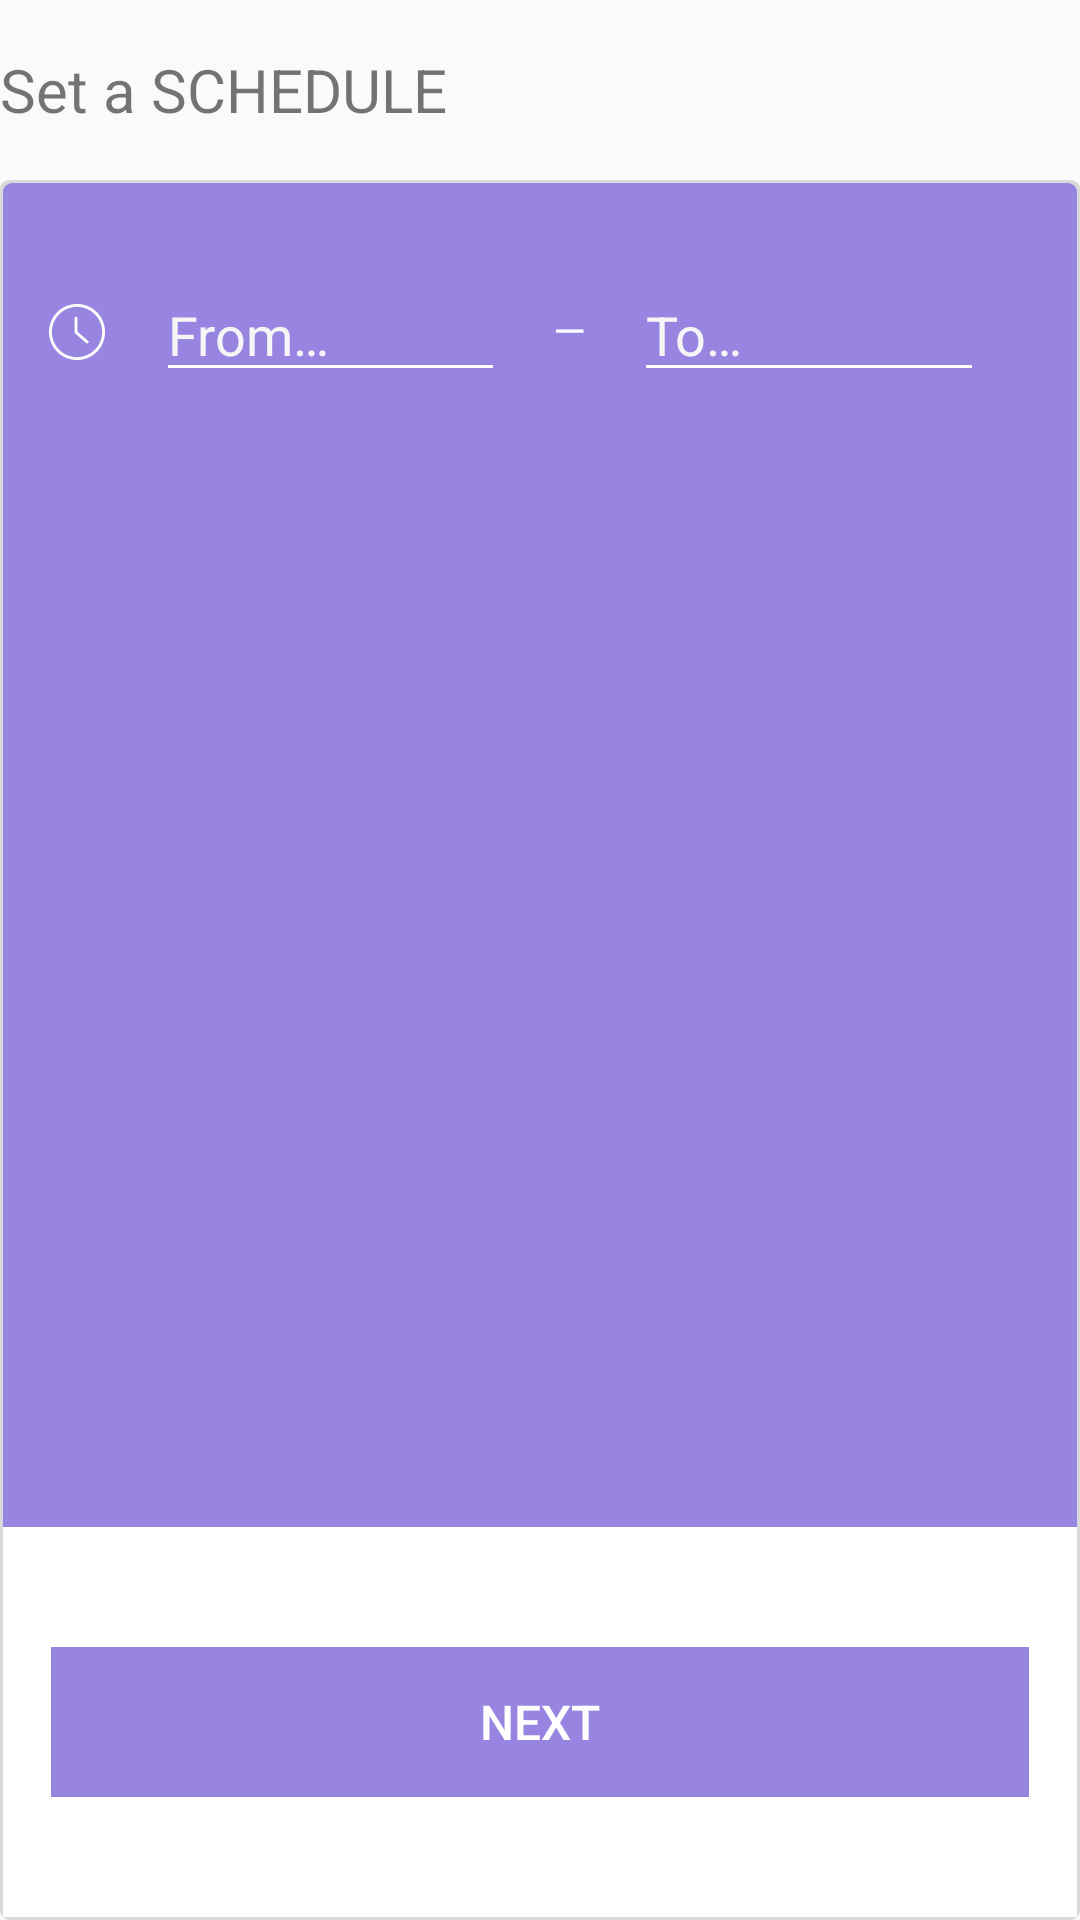

Point at icon controls on the screen. Image size 1080px x 1920px, points as point (x, y).
time: point (77, 332)
